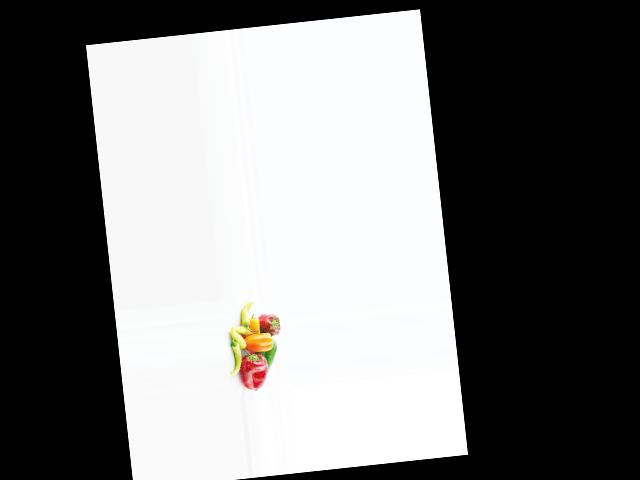bell_pepper: (227, 335, 243, 378)
